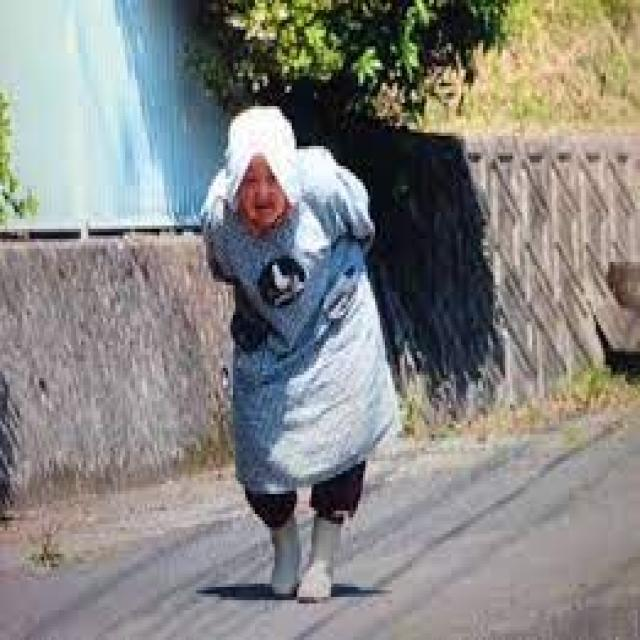idoso em pe: (193, 104, 398, 601)
